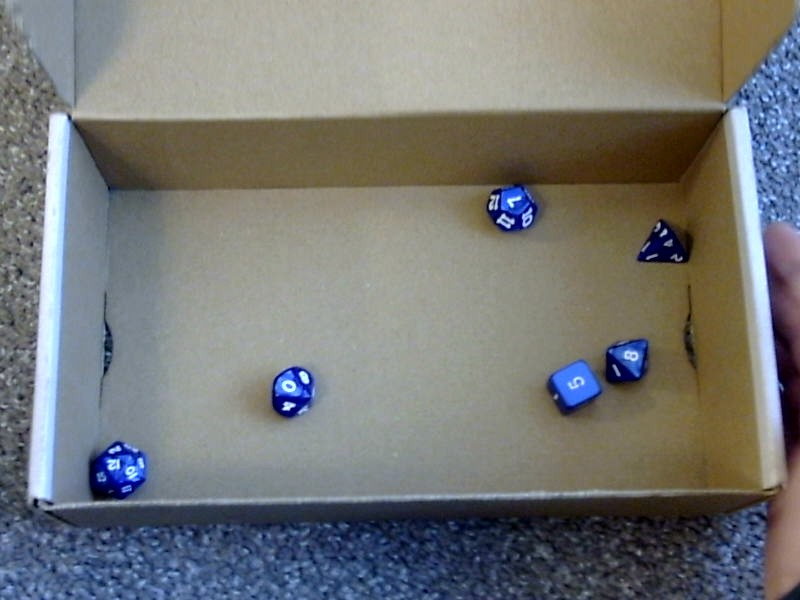d10 10: (262, 358, 319, 422)
d12 7: (482, 175, 541, 236)
d20 12: (83, 430, 150, 501)
d4 4: (634, 214, 690, 268)
d6 5: (543, 353, 603, 418)
d8 8: (604, 332, 653, 388)
